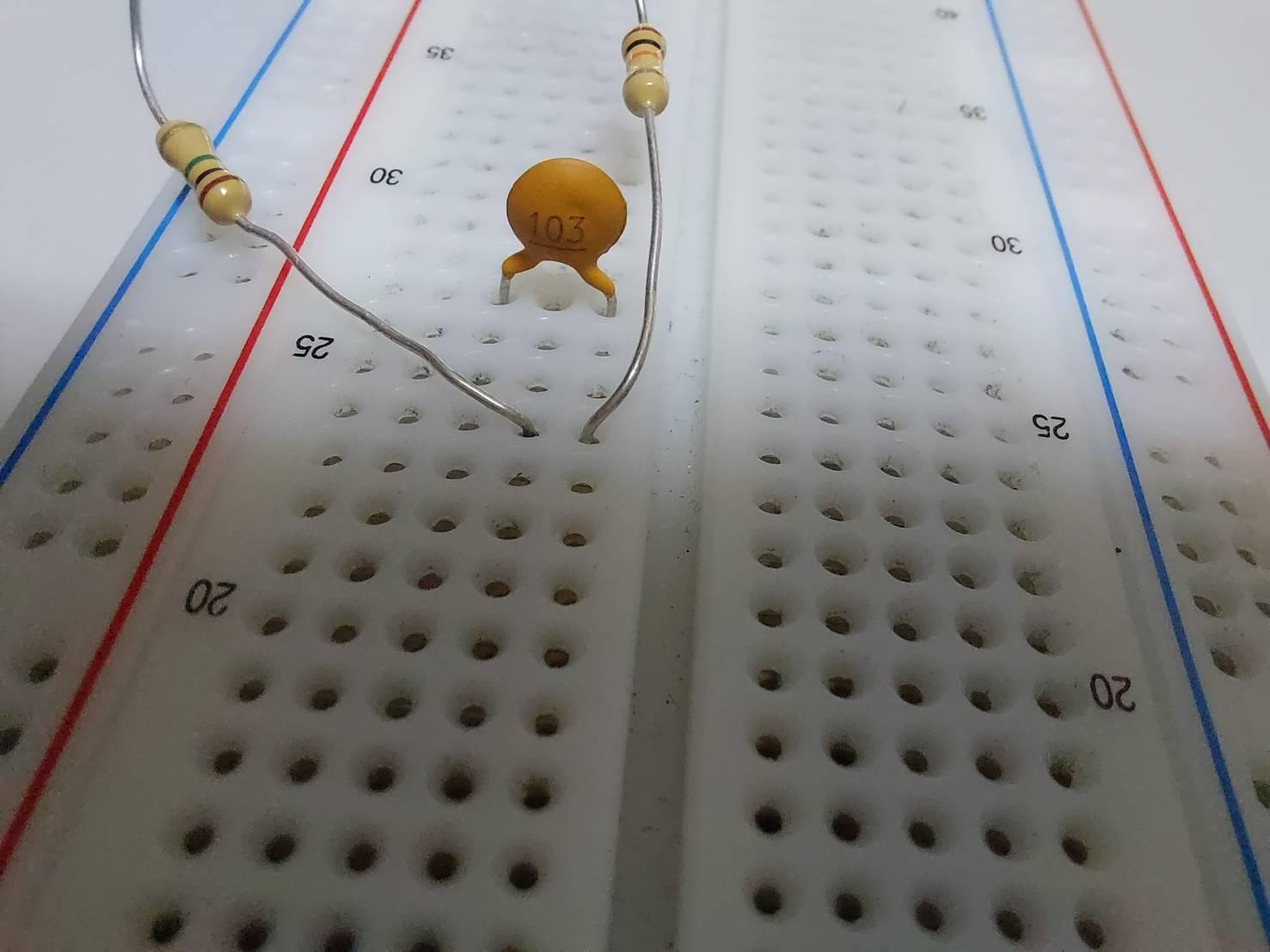resistor: (131, 102, 265, 235), (610, 21, 675, 121)
